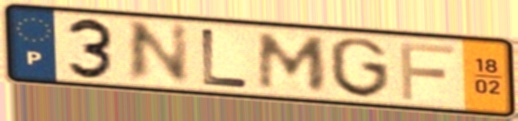3: (65, 16, 115, 81)
F: (396, 40, 458, 103)
G: (326, 35, 393, 101)
L: (199, 26, 253, 90)
M: (255, 30, 330, 93)
N: (124, 19, 193, 85)
